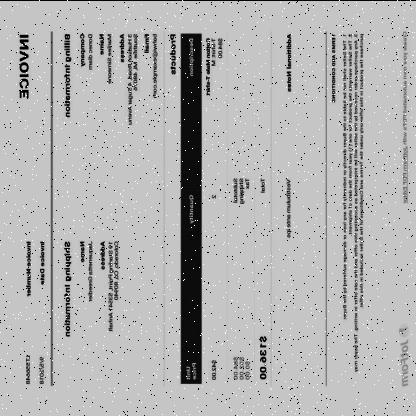Paragraph: (330, 28, 366, 375), (62, 29, 160, 126), (62, 238, 121, 338), (231, 175, 252, 381), (258, 175, 268, 380), (401, 28, 409, 206), (38, 238, 46, 386), (24, 237, 31, 386), (18, 31, 30, 100), (398, 336, 410, 386), (284, 176, 292, 238), (285, 31, 293, 93), (170, 32, 177, 74)
Table: (181, 33, 226, 384)
